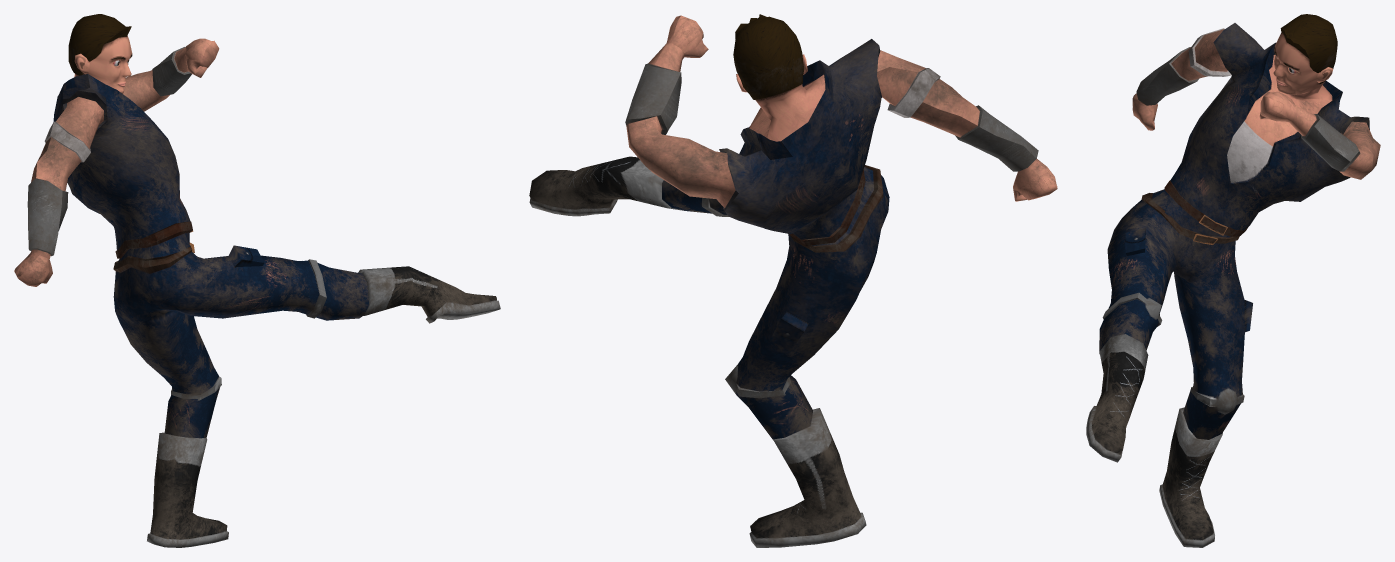
Rendered from Anim_ataque_f1_jugador.0022.obj.
3 views of the same model, side by side, from view 1: azimuth 30°, elevation 25°; view 2: azimuth 150°, elevation 25°; view 3: azimuth 270°, elevation 25° (orthographic). The views are drawn at different scales.
Parts seen in each view (by area): view 1: polySurface1; view 2: polySurface1; view 3: polySurface1.
Part boxes in pixels (box(x1,y1,x2,y2)): polySurface1: box(14, 14, 500, 547); polySurface1: box(529, 14, 1057, 547); polySurface1: box(1086, 14, 1380, 547).
Size of the model in its own units: 8.68 by 8.86 by 4.75.
